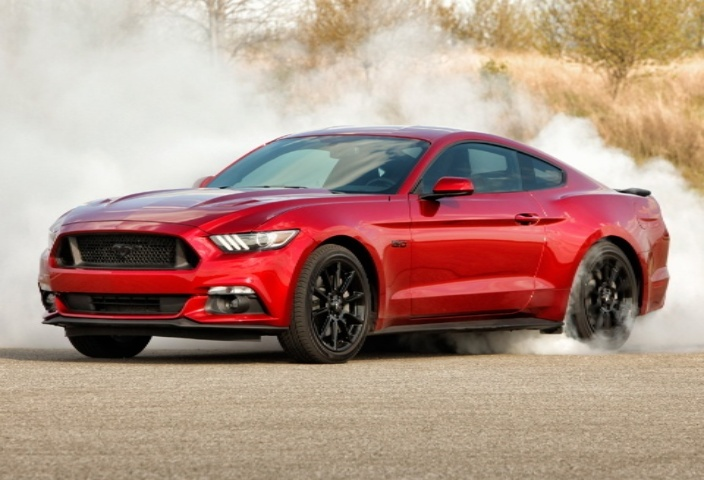car: (21, 104, 681, 370)
